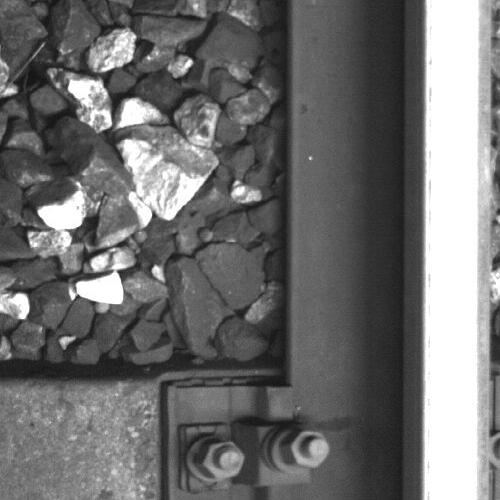kb: (173, 384, 332, 500)
nut: (282, 426, 331, 468), (194, 440, 245, 480)
rail: (422, 1, 490, 500)
tie_concr: (1, 378, 281, 500)
